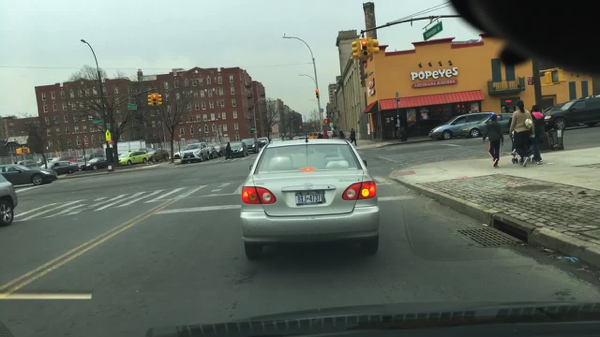car: (237, 136, 378, 258), (542, 95, 599, 130), (428, 112, 491, 140), (538, 102, 585, 134), (459, 112, 514, 138), (1, 163, 58, 185), (1, 175, 16, 226), (179, 142, 210, 162), (42, 160, 78, 173), (120, 150, 149, 165), (80, 157, 108, 170), (148, 148, 170, 163), (242, 138, 262, 152), (230, 142, 248, 157), (15, 159, 40, 168), (209, 142, 218, 160), (214, 143, 226, 156), (80, 154, 104, 160), (54, 155, 73, 162), (174, 149, 183, 158), (257, 137, 268, 144), (308, 132, 316, 140), (271, 137, 283, 141), (326, 131, 333, 137), (297, 134, 306, 138), (292, 135, 297, 141)
person: (512, 99, 532, 168), (481, 114, 503, 167), (532, 106, 544, 165), (223, 141, 233, 160), (350, 126, 358, 146), (507, 112, 514, 128), (338, 130, 345, 138)
traffic light: (550, 68, 563, 85), (350, 38, 360, 59), (369, 38, 378, 59), (360, 38, 367, 61), (541, 72, 554, 83), (151, 91, 156, 107), (156, 94, 162, 106), (147, 94, 151, 107), (15, 147, 22, 154), (22, 148, 30, 154), (323, 118, 330, 124), (315, 88, 318, 99)
traffic sign: (421, 20, 442, 41), (105, 131, 113, 143), (127, 103, 137, 110), (94, 120, 102, 125), (105, 123, 111, 129), (108, 141, 113, 148), (393, 97, 398, 104), (395, 91, 398, 98), (250, 128, 256, 131)
